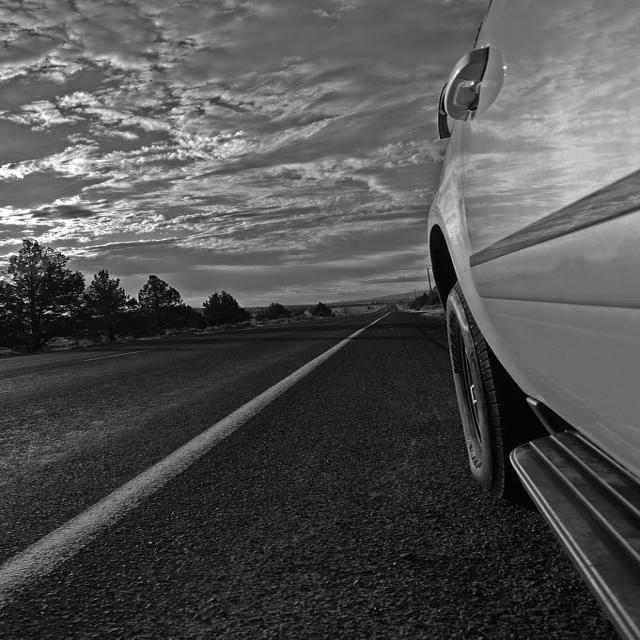car: (422, 0, 638, 637)
